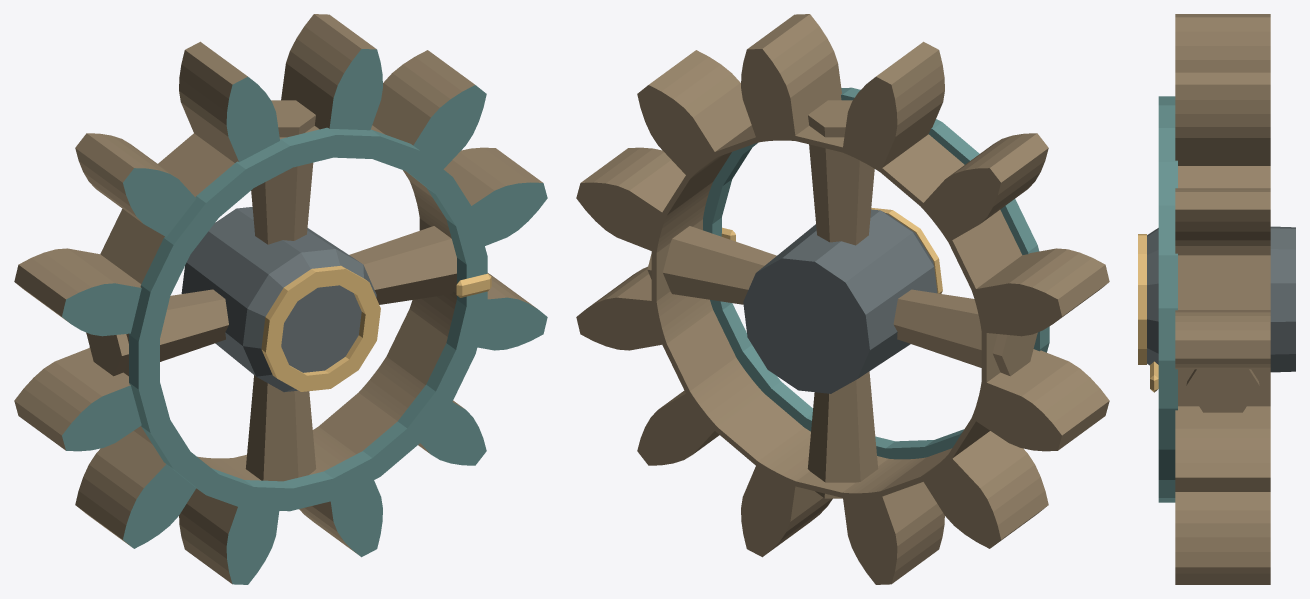
File: roue_menante.glb
The picture shows the model from 3 angles, left to right: view 1: azimuth 30°, elevation 25°; view 2: azimuth 150°, elevation 25°; view 3: azimuth 270°, elevation 25°; orthographic projection.
Parts seen in each view (by area): view 1: Denture, Épaulement, Moyeu graissé, Virole, Rayon.003, Rayon, Rayon.001, Rayon.002; view 2: Denture, Moyeu graissé, Épaulement, Rayon.001, Rayon.002, Rayon.003, Rayon, Virole; view 3: Denture, Épaulement, Moyeu graissé, Rayon, Virole, Index du clavetage.
Boxes of the visible parts, box(x1,y1,x2,y2) form: Denture: box(14, 14, 547, 584); Épaulement: box(129, 127, 487, 511); Moyeu graissé: box(181, 207, 376, 392); Virole: box(261, 265, 380, 391); Rayon.003: box(245, 375, 316, 481); Rayon: box(349, 226, 456, 304); Rayon.001: box(251, 100, 315, 244); Rayon.002: box(86, 289, 228, 376); Denture: box(576, 14, 1109, 584); Moyeu graissé: box(743, 209, 937, 393); Épaulement: box(703, 87, 1049, 459); Rayon.001: box(808, 100, 874, 245); Rayon.002: box(893, 289, 1037, 376); Rayon.003: box(807, 371, 878, 498); Rayon: box(647, 226, 776, 304); Virole: box(871, 207, 942, 293); Denture: box(1175, 14, 1270, 584); Épaulement: box(1158, 96, 1177, 502); Moyeu graissé: box(1147, 226, 1295, 372); Rayon: box(1186, 369, 1259, 412); Virole: box(1138, 234, 1146, 364); Index du clavetage: box(1150, 361, 1158, 392).
Bounding box in the file's own units: 1.07 × 1.07 × 0.301.
